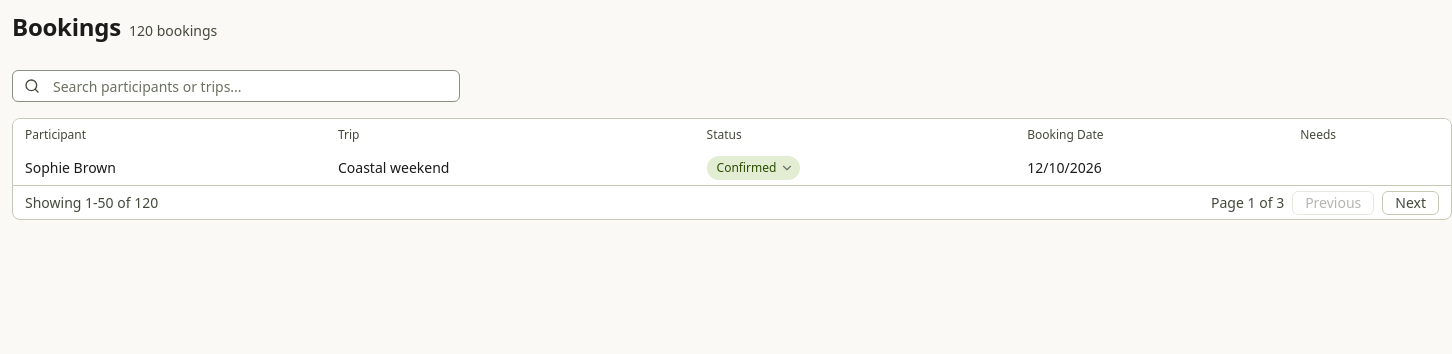
Test: BookingsPage — search › asks the server for the search from page 1, and says when nothing matches
Click the button with aria-label "Next page".
click(1411, 202)  # box [1382,190,1439,214]
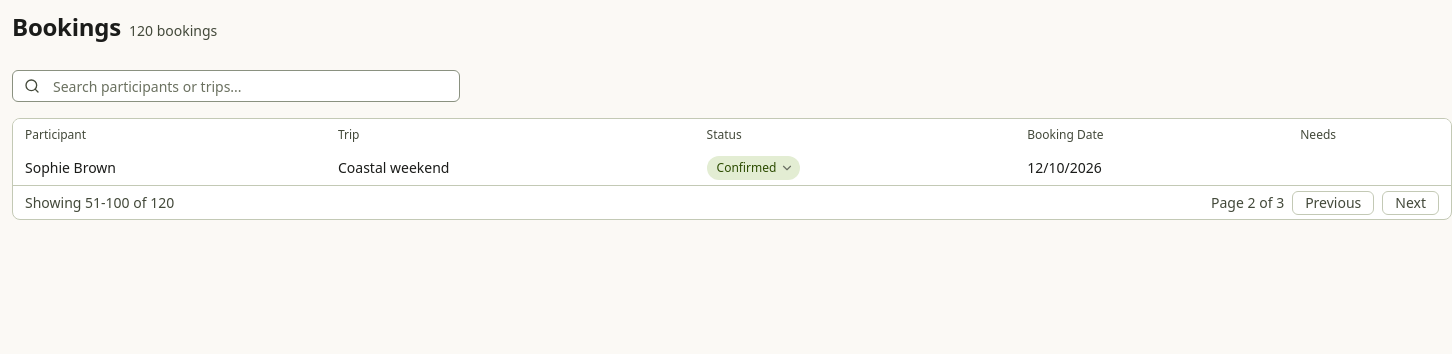
Type " sophie " into the field with placeholder "Search participants or trips...".
click(236, 86); type(" sophie ")  # box [12,70,460,102]
Wait 300 ms
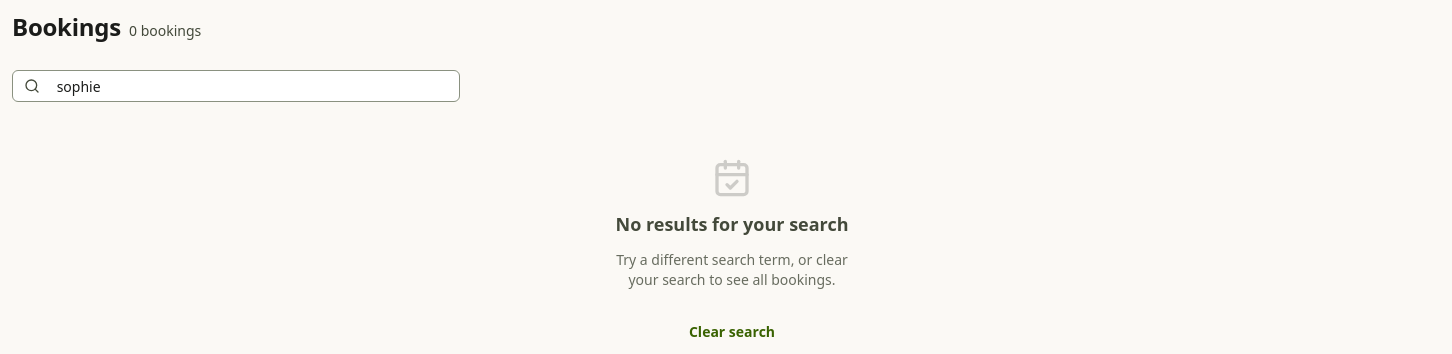
Now the text "No results for your search" is shown, box [616,210,848,238]
